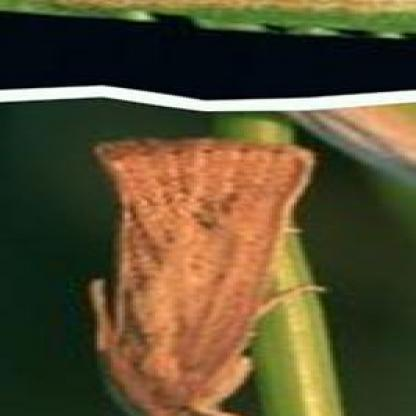stem-borer: (84, 134, 330, 416)
